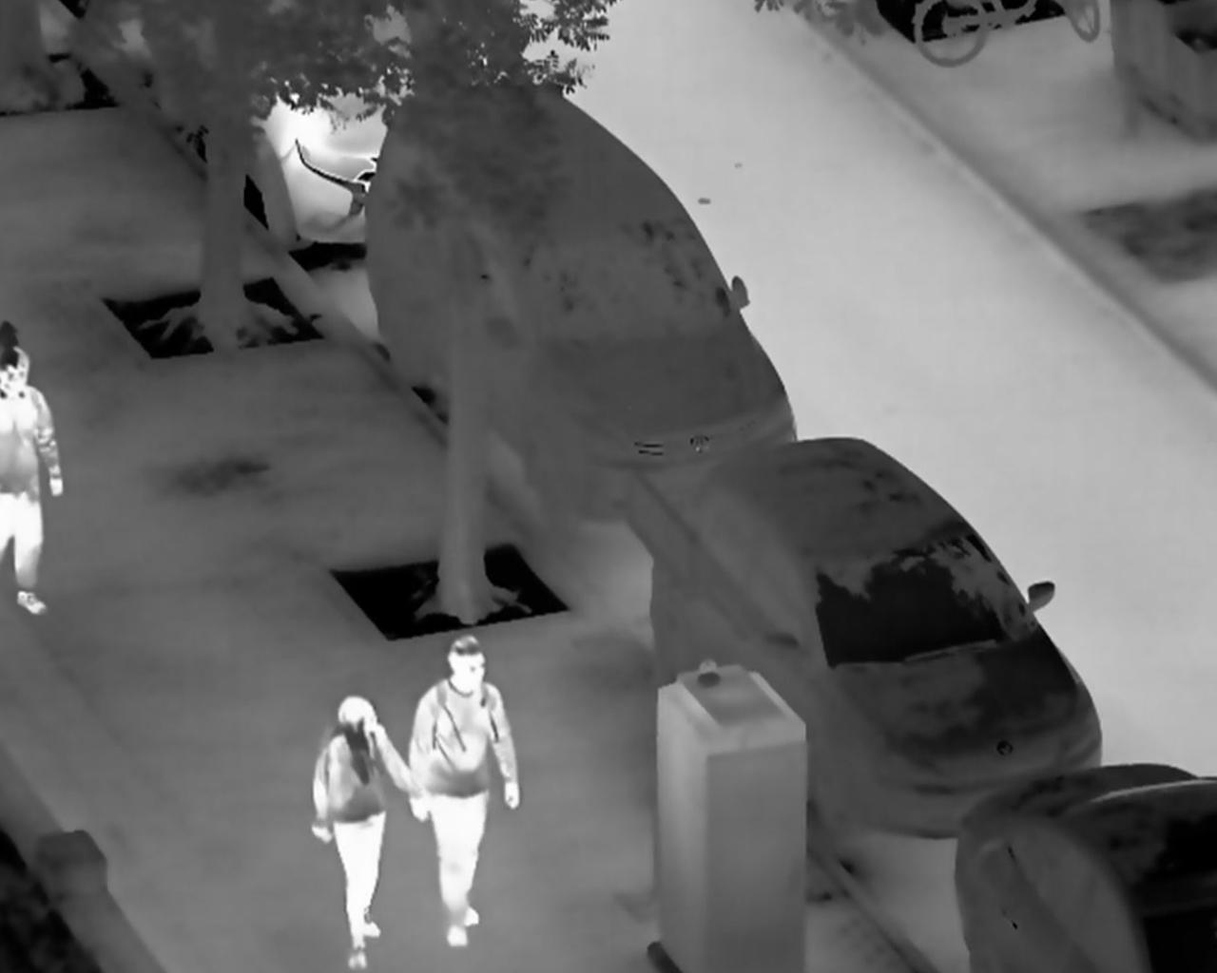person: (409, 634, 518, 955), (310, 693, 412, 973)
